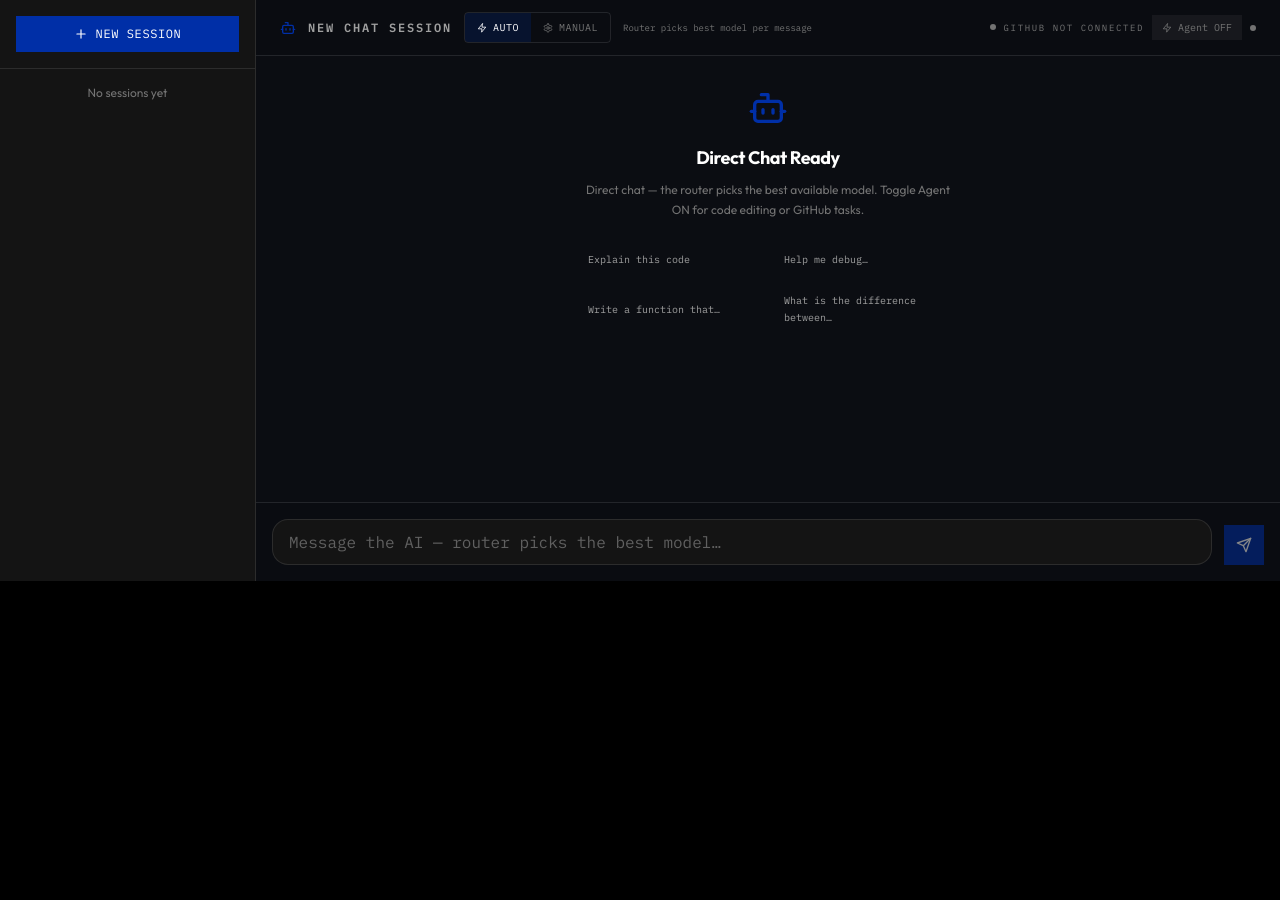
Test: offers a settings shortcut when GitHub access is required
Later steps or results of the test are not shown.
Type "Clone my repo and open a PR" into the text box with test id "chat-input" at (742, 542), box [272, 519, 1212, 565]
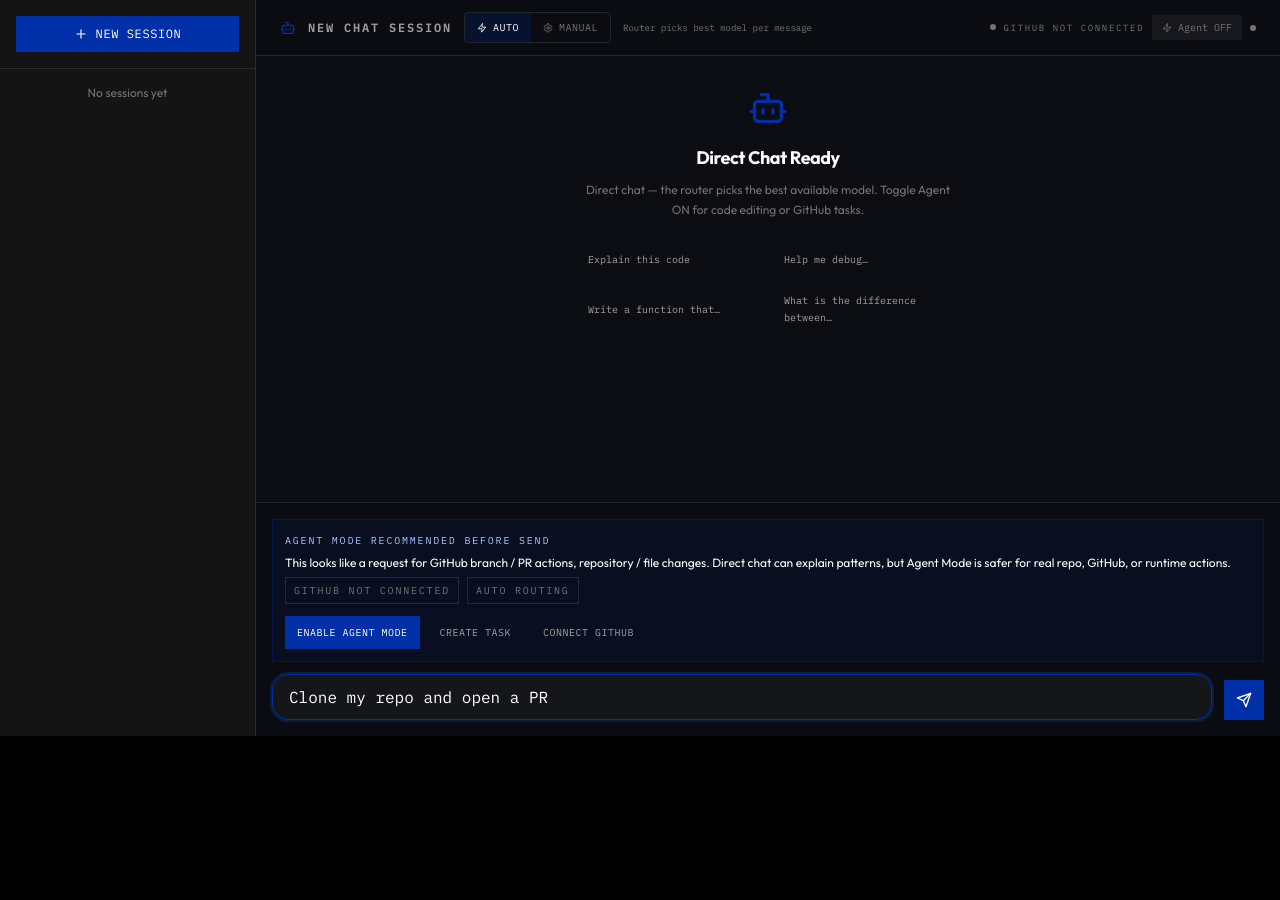
Click the button with test id "chat-send-button" at (1244, 700), box [1224, 680, 1264, 720]
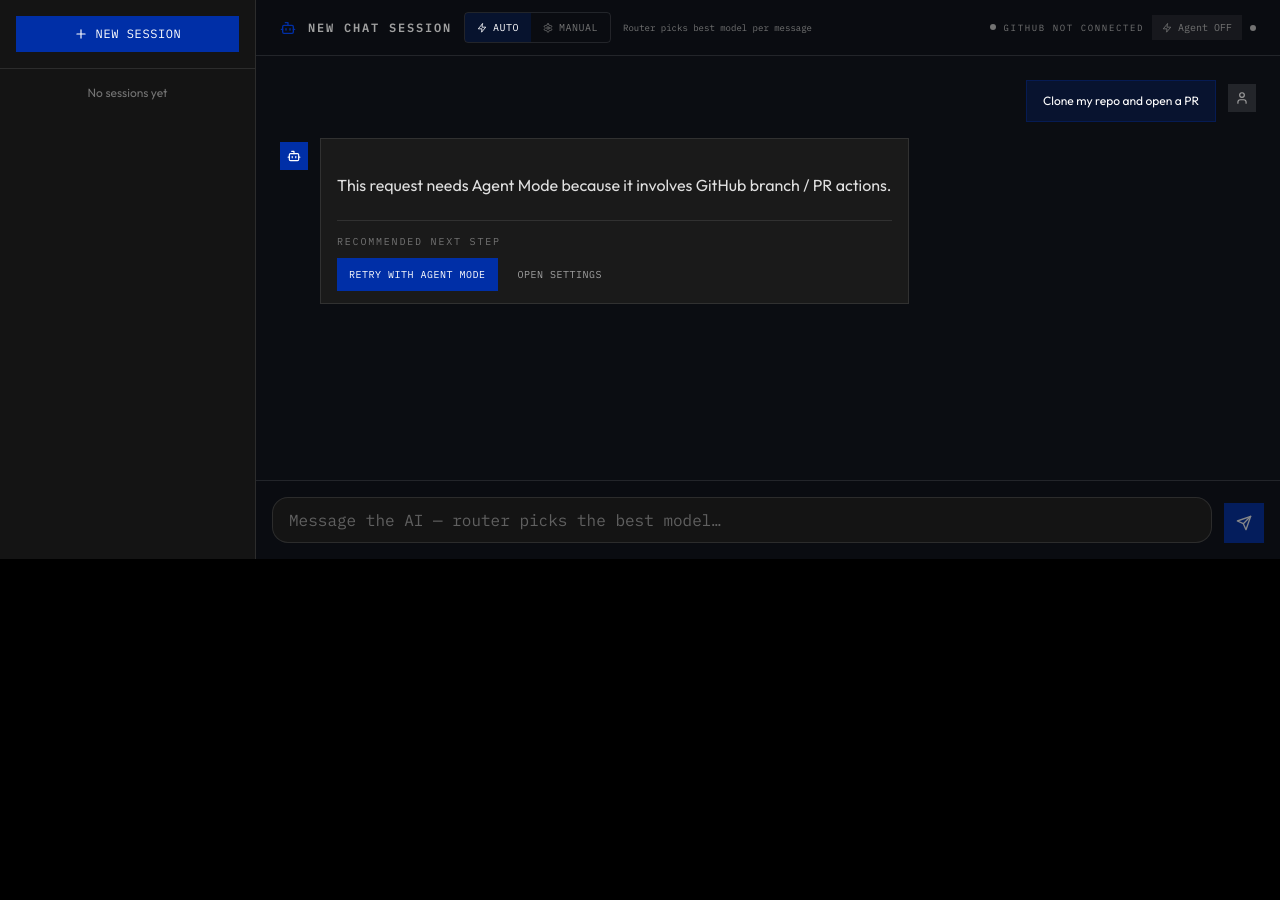
Expected: the button with test id "agent-handoff-settings-button" is shown, [506, 258, 614, 291]
